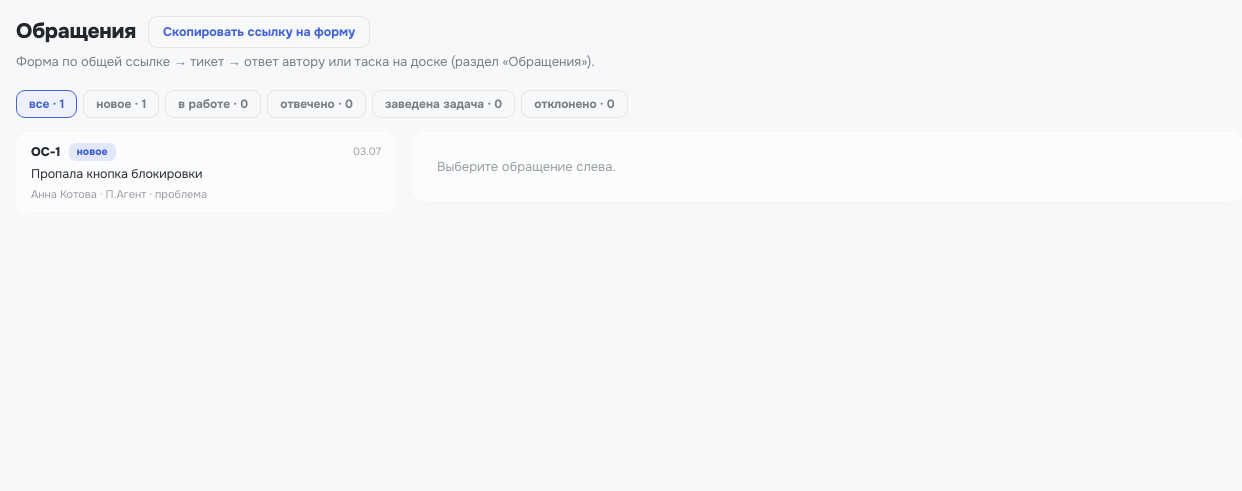
Test: TicketsScreen (штабной инбокс) › ответ уходит через staffReply и статус в деталке меняется
This screenshot has width=1242, height=491.
Click the text "ОС-1" at (46, 152), box [31,142,61,161]
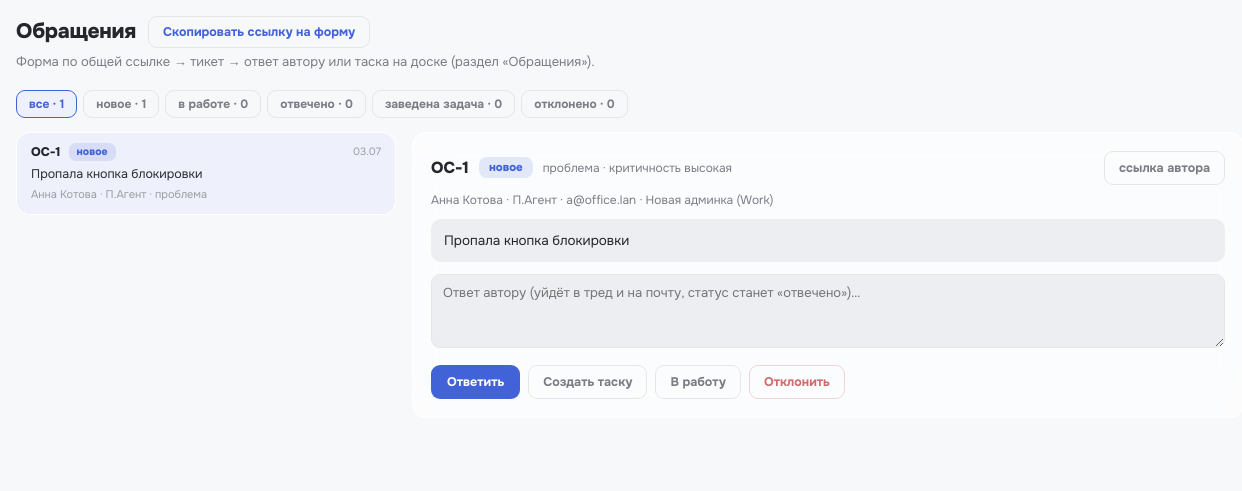
Replace the text in the text box with placeholder "Ответ автору" with "Кнопка в меню «⋯»" at (828, 311), box [431,274,1225,348]
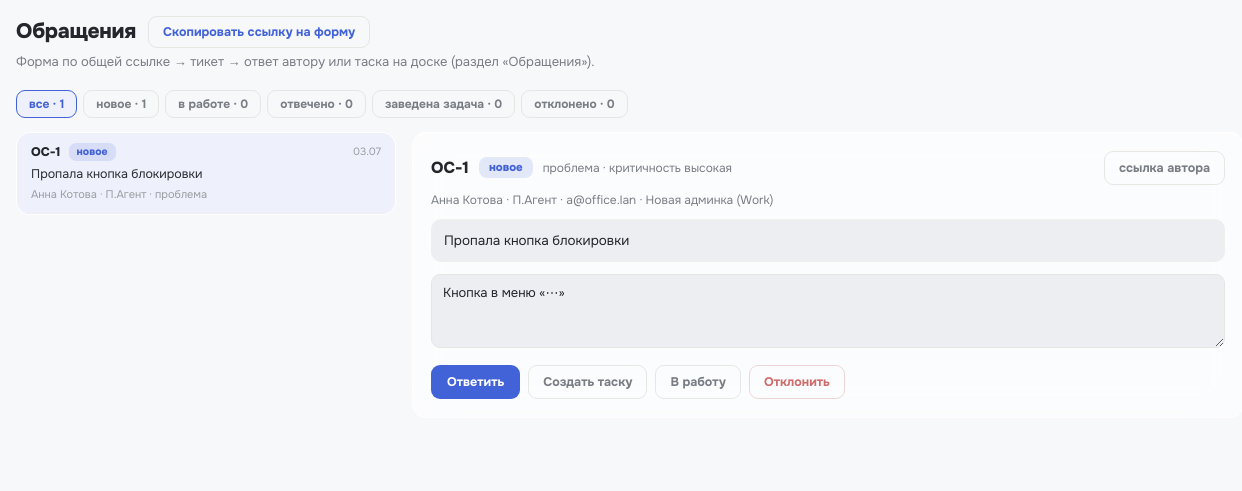
Click the button "Ответить" at (476, 382), box [431,365,520,399]
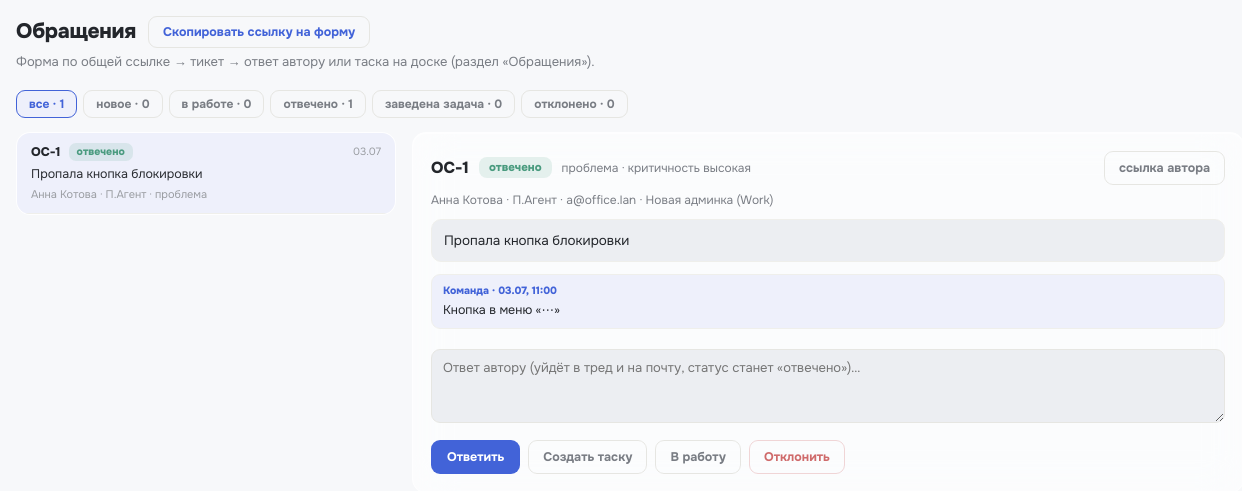
Expected: the text "Кнопка в меню «⋯»" is shown, [443,302,560,318]
Expected: the 1st text "отвечено" is shown, [69,143,133,161]
